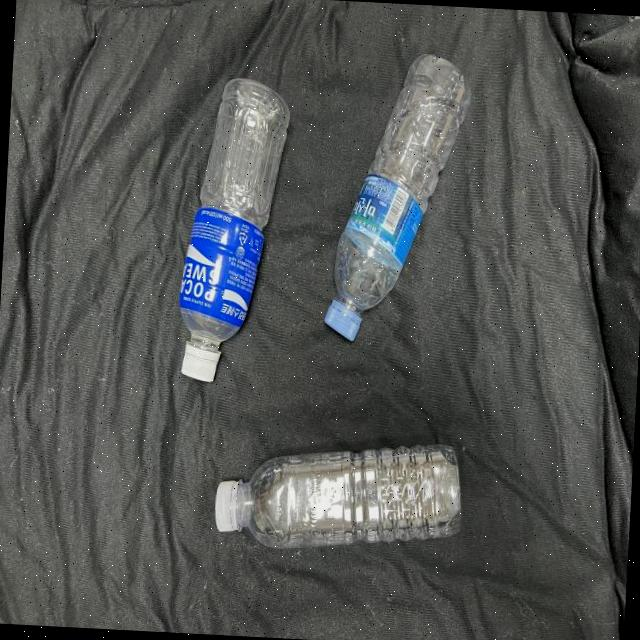bottle: (306, 39, 484, 364), (155, 63, 305, 401), (204, 435, 473, 555)
cap: (210, 478, 252, 535), (320, 292, 368, 341), (178, 342, 219, 384)
label: (172, 202, 273, 344), (344, 180, 420, 272)
